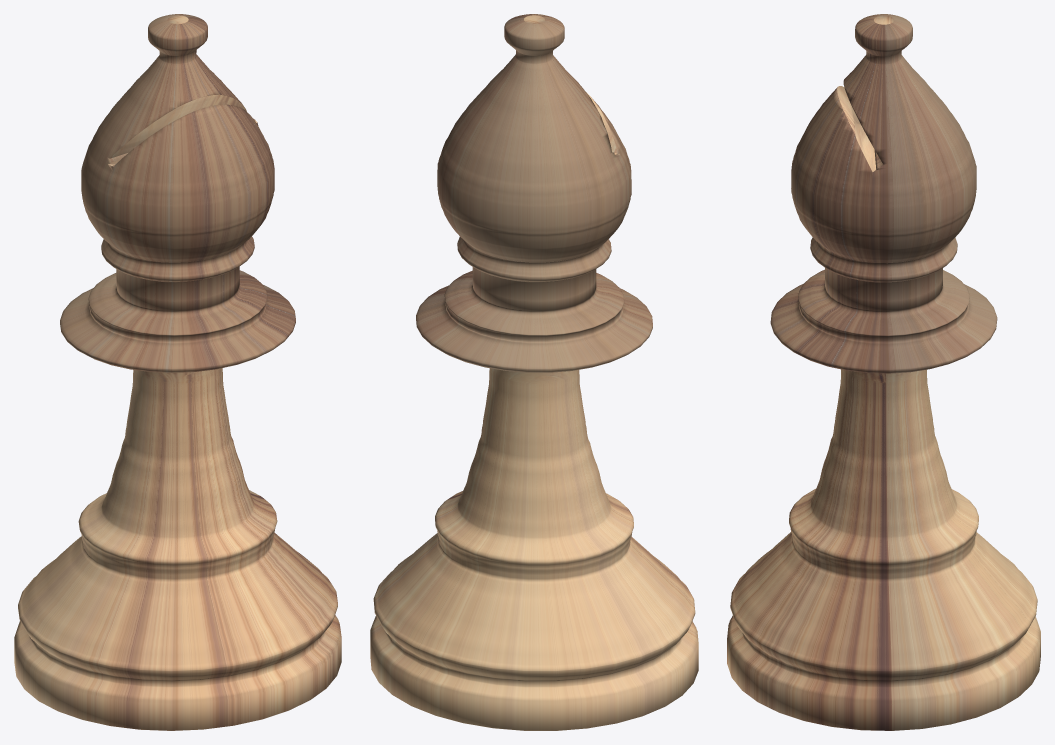
The model's file is bishop.glb.
3 views of the same model, side by side, from view 1: azimuth 30°, elevation 25°; view 2: azimuth 150°, elevation 25°; view 3: azimuth 270°, elevation 25° (orthographic).
Parts seen in each view (by area): view 1: Cylinder_1; view 2: Cylinder_1; view 3: Cylinder_1.
Boxes of the visible parts, x1=… form: Cylinder_1: x1=14, y1=14, x2=341, y2=730; Cylinder_1: x1=370, y1=14, x2=698, y2=730; Cylinder_1: x1=727, y1=14, x2=1040, y2=730.
Bounding box in the file's own units: 2.02 × 4.33 × 1.91.
Materials: 1 (1 with a texture image).
